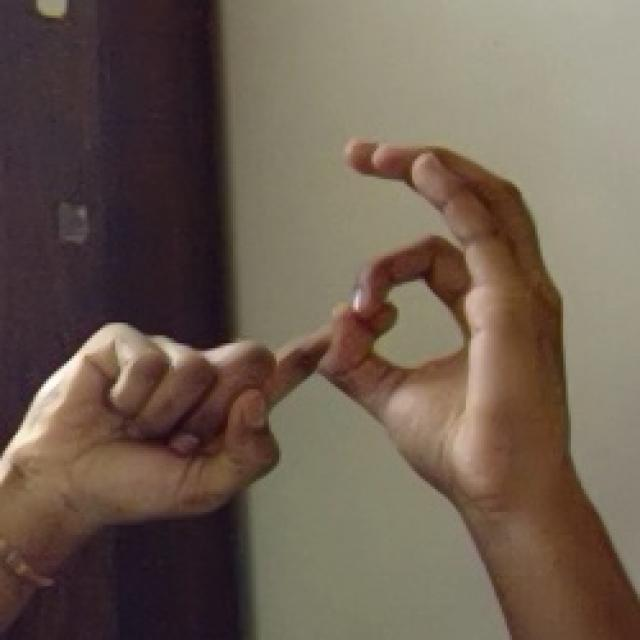Alphabet-Q: (28, 128, 586, 564)
